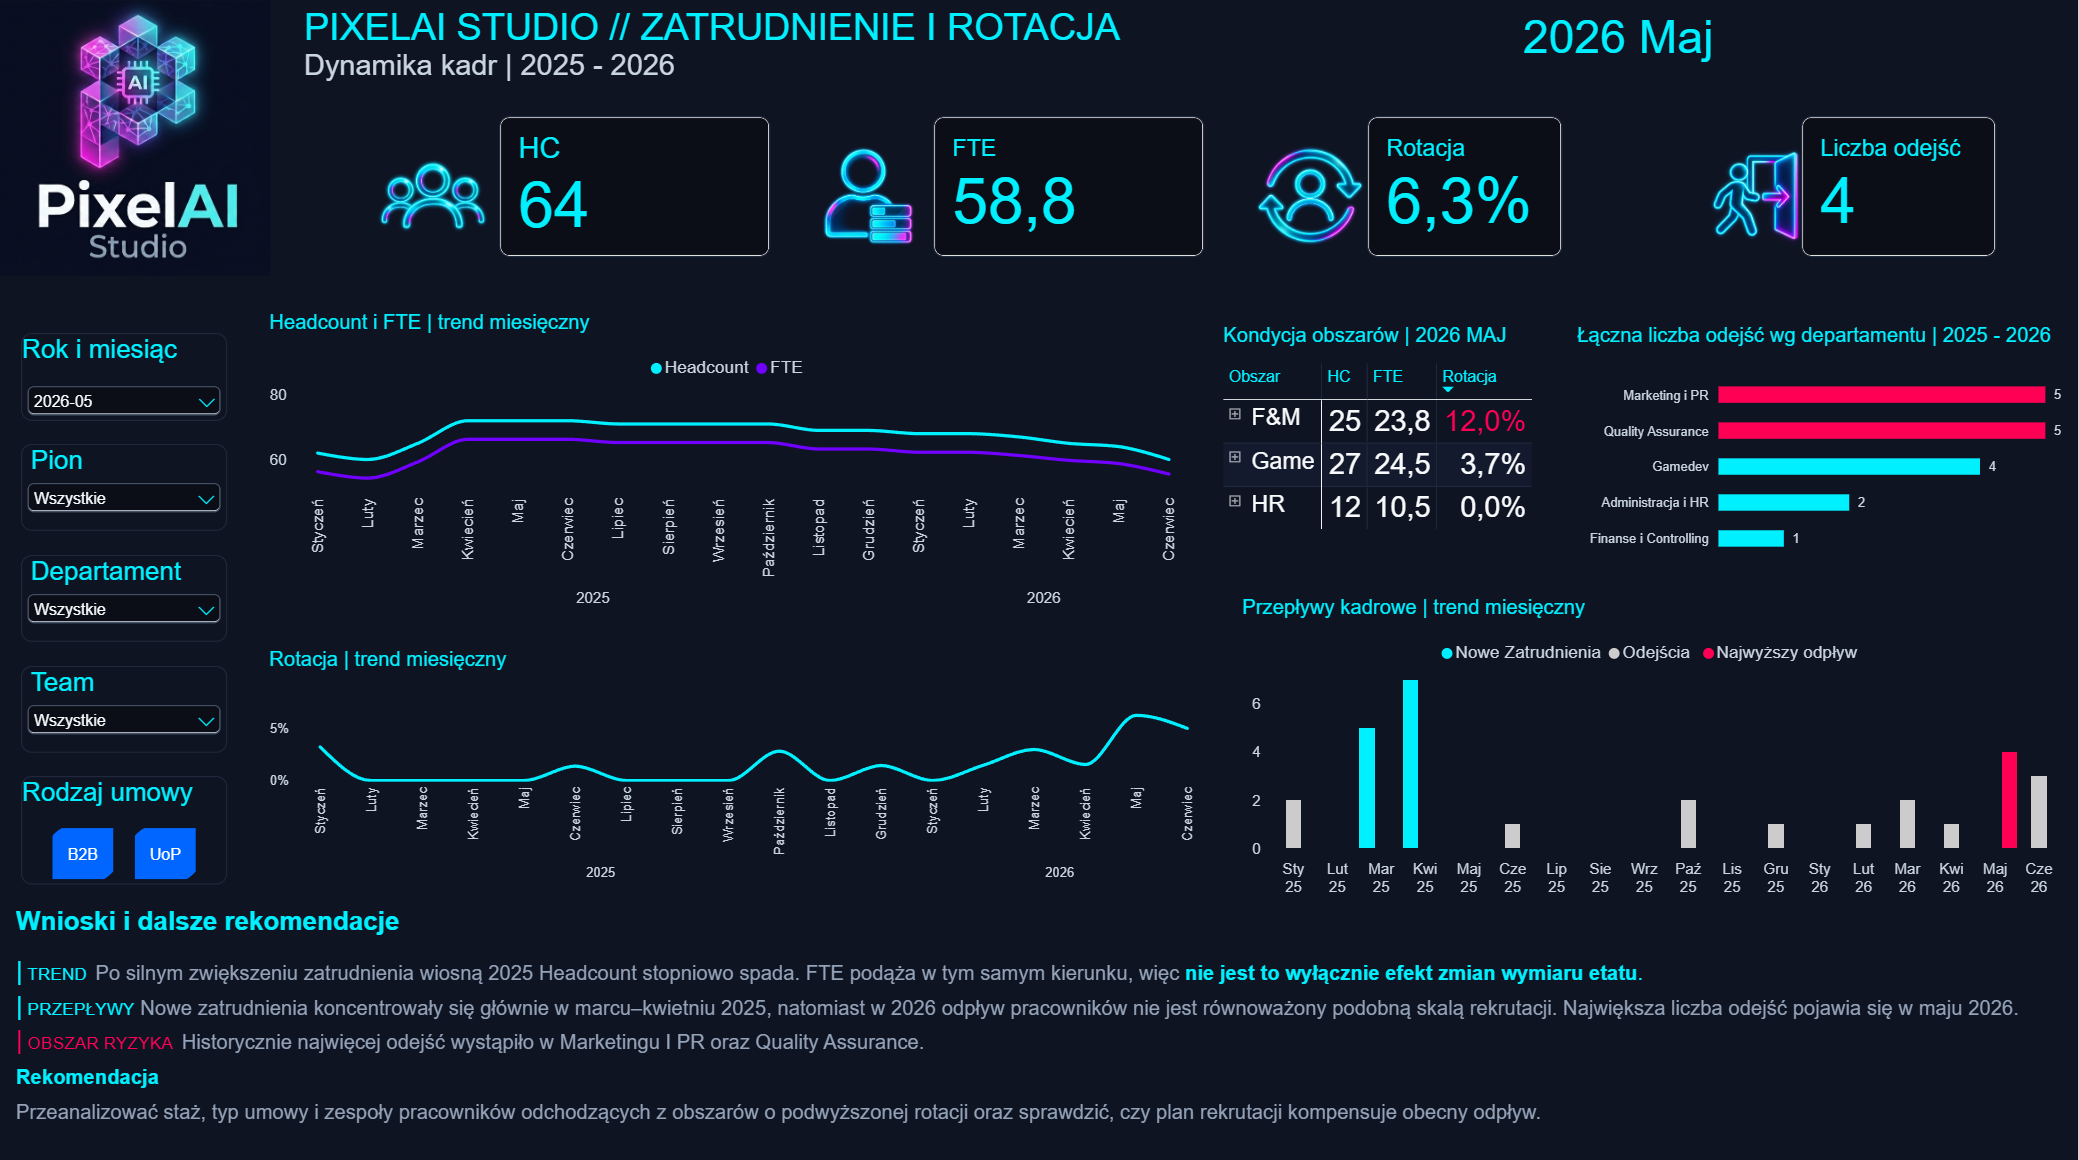

This screenshot's page, from the dashboard's own definition file:
{"tool":"powerbi","page":{"name":"Duplikat sekcji Raport miesięczny","canvas":[1920,1080],"ordinal":0},"visuals":[{"type":"advancedSlicerVisual","fields":{"Values":["dimPracownicy.Rodzaj umowy"]},"box":[23.9,720.6,190,100.3],"z":0},{"type":"textbox","title":"PIXELAI STUDIO // ZATRUDNIENIE I ROTACJA","box":[285.1,11.5,788.7,71.6],"z":1000},{"type":"image","box":[0,0,254.1,265.6],"z":2000},{"type":"slicer","title":"FILTRY","fields":{"Values":["fctZatrudnienie.Pion"]},"box":[24.2,414.6,190,80],"z":3000},{"type":"slicer","title":"Rok i miesiąc","fields":{"Values":["Dim_Kalendarz.Rok-Miesiąc"]},"box":[24.2,312,190.5,80.5],"z":4000},{"type":"cardVisual","fields":{"Data":["MeasureTable.FTI"]},"box":[864,112,250,130],"z":5000},{"type":"cardVisual","fields":{"Data":["MeasureTable.Liczba odejsc"]},"box":[1664,112,180,130],"z":6000},{"type":"slicer","title":"FILTRY","fields":{"Values":["fctZatrudnienie.Departament"]},"box":[24.2,516.8,190,80],"z":7000},{"type":"slicer","title":"FILTRY","fields":{"Values":["fctZatrudnienie.Team"]},"box":[24.2,618.9,190,80],"z":8000},{"type":"lineChart","title":"Headcount i FTE | trend miesięczny","fields":{"Category":["Dim_Kalendarz.Rok","Dim_Kalendarz.Miesiąc"],"Y":["MeasureTable.Headcount","MeasureTable.FTI"]},"box":[236.8,277.1,879.5,310.4],"z":9000},{"type":"lineChart","title":"Rotacja | trend miesięczny","fields":{"Category":["Dim_Kalendarz.Rok","Dim_Kalendarz.Miesiąc"],"Y":["MeasureTable.Wskaźnik Rotacji"]},"box":[236.8,587.5,896.8,252.9],"z":10000},{"type":"clusteredColumnChart","title":"Przepływy kadrowe | trend miesięczny ","fields":{"Category":["Dim_Kalendarz.Rok-MiesiącSkrót"],"Y":["MeasureTable.Nowe Zatrudnienia","MeasureTable.Odejścia pozostałe","MeasureTable.Odejścia MAX"]},"box":[1133.6,540.4,786.4,309.3],"z":11000},{"type":"pivotTable","fields":{"Rows":["fctZatrudnienie.Pion","fctZatrudnienie.Departament","fctZatrudnienie.Team"],"Values":["MeasureTable.Headcount","MeasureTable.FTI","MeasureTable.Wskaźnik Rotacji"]},"box":[1116.4,289.7,354.1,250.6],"z":12000},{"type":"textbox","title":"Wnioski i dalsze rekomendacje","box":[19.5,840.4,1879.8,239.1],"z":13000},{"type":"clusteredBarChart","title":"Łączna liczba odejść wg departamentu | 2025 - 2026","fields":{"Category":["fctZatrudnienie.Departament"],"Y":["MeasureTable.Liczba odejść"]},"box":[1441.7,289.7,478.3,250.6],"z":14000},{"type":"textbox","box":[1408,16,448,48],"z":15000},{"type":"image","box":[343.8,120.7,120,130],"z":16000},{"type":"image","box":[742.7,120.7,120,130],"z":17000},{"type":"image","box":[1152,120.7,120,130],"z":18000},{"type":"image","box":[1561.3,120.7,120,130],"z":19000},{"type":"cardVisual","fields":{"Data":["MeasureTable.Wskaźnik Rotacji"]},"box":[1264,112,180,130],"z":20000},{"type":"cardVisual","fields":{"Data":["MeasureTable.Headcount"]},"box":[464,112,250,130],"z":21000}]}

Visuals, with their boxes in screenshot pixels (x1, y1, x2, y2), scaled from the page's 1920x1080 canvas onto the 2079x1160 screenshot:
advancedSlicerVisual - dimPracownicy.Rodzaj umowy: box=[26, 774, 232, 882]
"PIXELAI STUDIO // ZATRUDNIENIE I ROTACJA" textbox: box=[309, 12, 1163, 89]
image: box=[0, 0, 275, 285]
"FILTRY" slicer: box=[26, 445, 232, 531]
"Rok i miesiąc" slicer: box=[26, 335, 232, 422]
cardVisual - MeasureTable.FTI: box=[936, 120, 1206, 260]
cardVisual - MeasureTable.Liczba odejsc: box=[1802, 120, 1997, 260]
"FILTRY" slicer: box=[26, 555, 232, 641]
"FILTRY" slicer: box=[26, 665, 232, 751]
"Headcount i FTE | trend miesięczny" lineChart: box=[256, 298, 1209, 631]
"Rotacja | trend miesięczny" lineChart: box=[256, 631, 1227, 903]
"Przepływy kadrowe | trend miesięczny " clusteredColumnChart: box=[1227, 580, 2078, 913]
pivotTable - fctZatrudnienie.Pion x fctZatrudnienie.Departament: box=[1209, 311, 1592, 580]
"Wnioski i dalsze rekomendacje" textbox: box=[21, 903, 2057, 1159]
"Łączna liczba odejść wg departamentu | 2025 - 2026" clusteredBarChart: box=[1561, 311, 2078, 580]
textbox: box=[1525, 17, 2010, 69]
image: box=[372, 130, 502, 269]
image: box=[804, 130, 934, 269]
image: box=[1247, 130, 1377, 269]
image: box=[1691, 130, 1821, 269]
cardVisual - MeasureTable.Wskaźnik Rotacji: box=[1369, 120, 1564, 260]
cardVisual - MeasureTable.Headcount: box=[502, 120, 773, 260]
